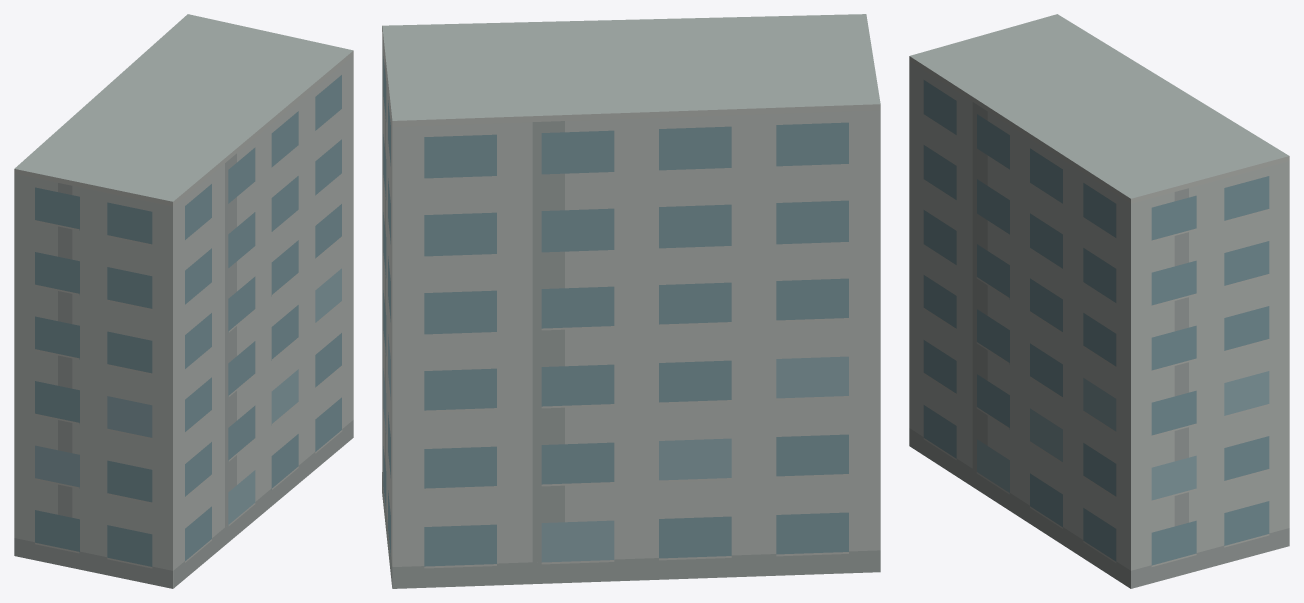
The model's file is survey-upis-33035877.glb.
3 views of the same model, side by side, from view 1: azimuth 30°, elevation 25°; view 2: azimuth 150°, elevation 25°; view 3: azimuth 270°, elevation 25° (orthographic). The views are drawn at different scales.
Visible parts, largest first — view 1: survey-upis-33035877.tmp; view 2: survey-upis-33035877.tmp; view 3: survey-upis-33035877.tmp.
Boxes of the visible parts, x1,y1,x2,y2 form: survey-upis-33035877.tmp: [14, 14, 353, 588]; survey-upis-33035877.tmp: [382, 14, 880, 588]; survey-upis-33035877.tmp: [909, 14, 1289, 588].
Bounding box in the file's own units: 19.42 × 19.1 × 16.88.
